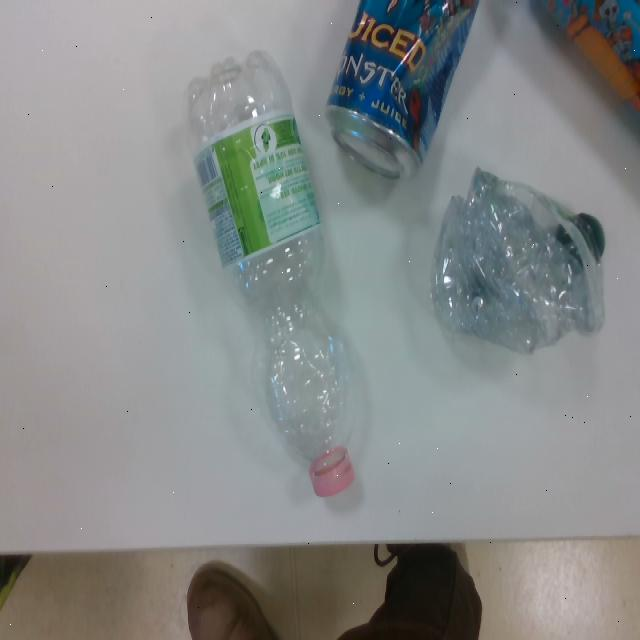aluminum: (428, 162, 610, 362), (326, 0, 483, 180)
plastic: (181, 41, 367, 498)
